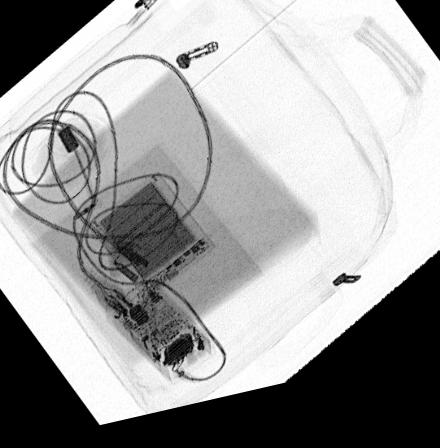Powerbank: (87, 178, 215, 311)
